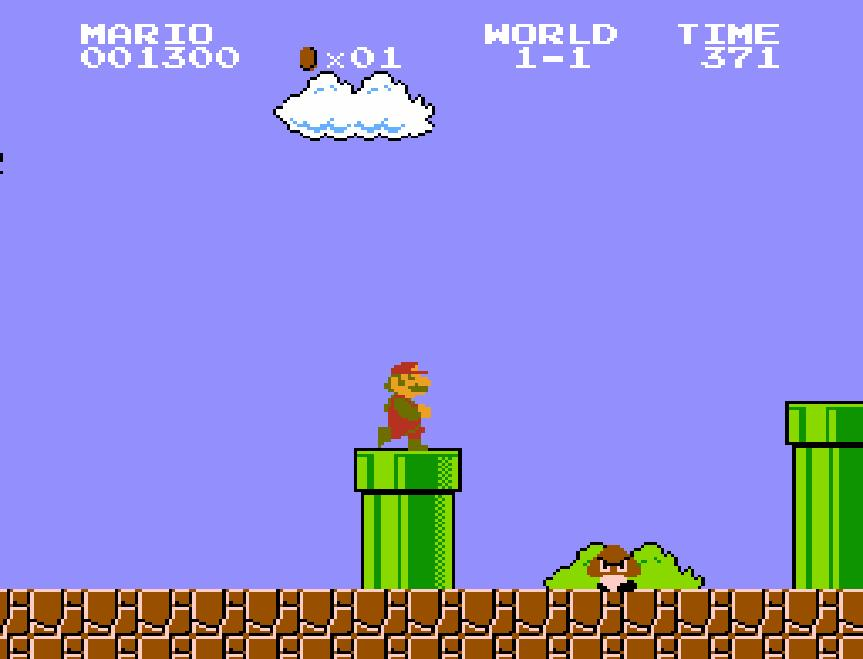big_mario: (376, 354, 434, 452)
